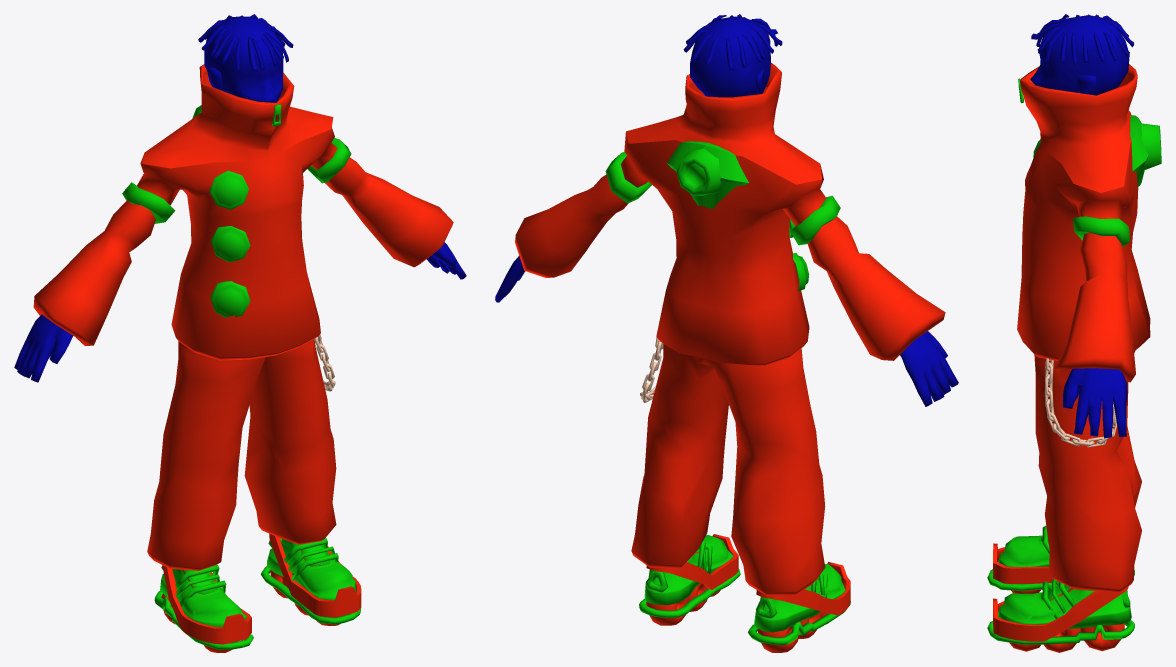
The model's file is CSChartest.fbx.
3 views of the same model, side by side, from view 1: azimuth 30°, elevation 25°; view 2: azimuth 150°, elevation 25°; view 3: azimuth 270°, elevation 25° (orthographic). The views are drawn at different scales.
Visible parts, largest first — view 1: Cube.011; view 2: Cube.011; view 3: Cube.011.
Boxes of the visible parts, x1=… form: Cube.011: x1=14, y1=14, x2=466, y2=652; Cube.011: x1=495, y1=14, x2=958, y2=652; Cube.011: x1=987, y1=14, x2=1161, y2=652.
Bounding box in the file's own units: 904 × 1190 × 310.
